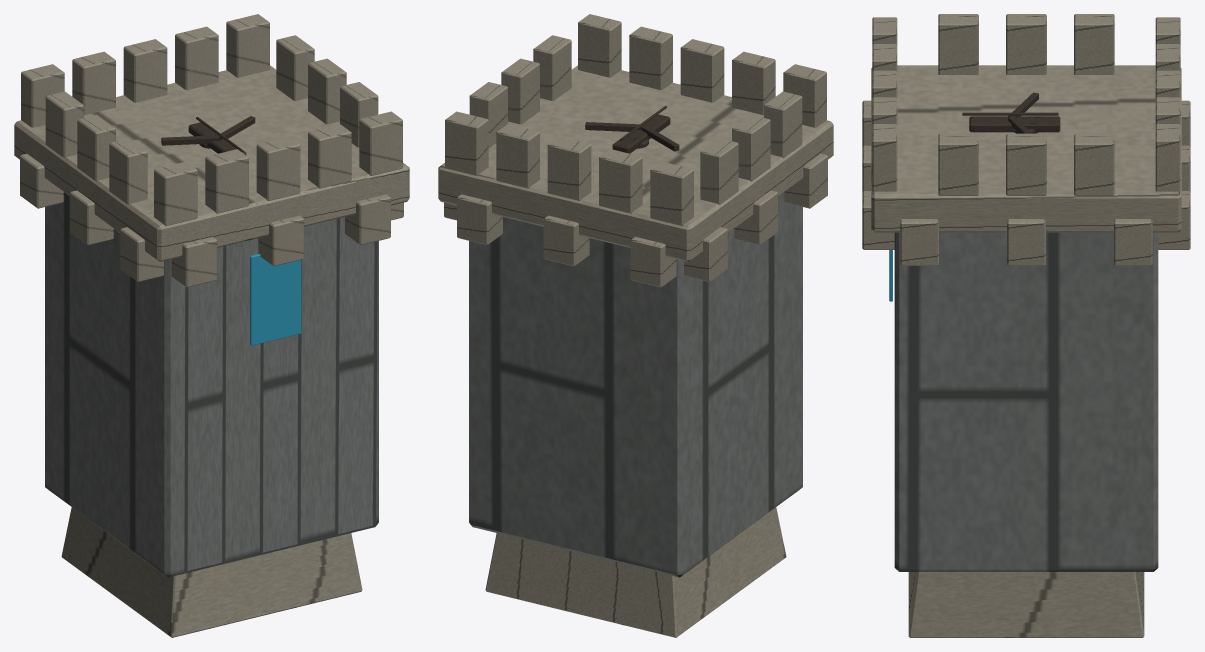
Rendered from edificio-tower-e2-Cd2_8vQy.glb.
3 views of the same model, side by side, from view 1: azimuth 30°, elevation 25°; view 2: azimuth 150°, elevation 25°; view 3: azimuth 270°, elevation 25° (orthographic). The views are drawn at different scales.
Visible parts, largest first — view 1: envolvente_torre, team_color, mecanismo_ataque_torre_e2; view 2: envolvente_torre, mecanismo_ataque_torre_e2; view 3: envolvente_torre, mecanismo_ataque_torre_e2.
Boxes of the visible parts, bbox=[...] form: envolvente_torre: bbox=[14, 14, 409, 637]; team_color: bbox=[250, 254, 301, 345]; mecanismo_ataque_torre_e2: bbox=[161, 116, 255, 154]; envolvente_torre: bbox=[438, 14, 833, 637]; mecanismo_ataque_torre_e2: bbox=[585, 105, 679, 153]; envolvente_torre: bbox=[862, 14, 1190, 637]; mecanismo_ataque_torre_e2: bbox=[962, 92, 1060, 133].
Bounding box in the file's own units: 33.8 × 58 × 33.8.
Materials: 2 (1 with a texture image).
